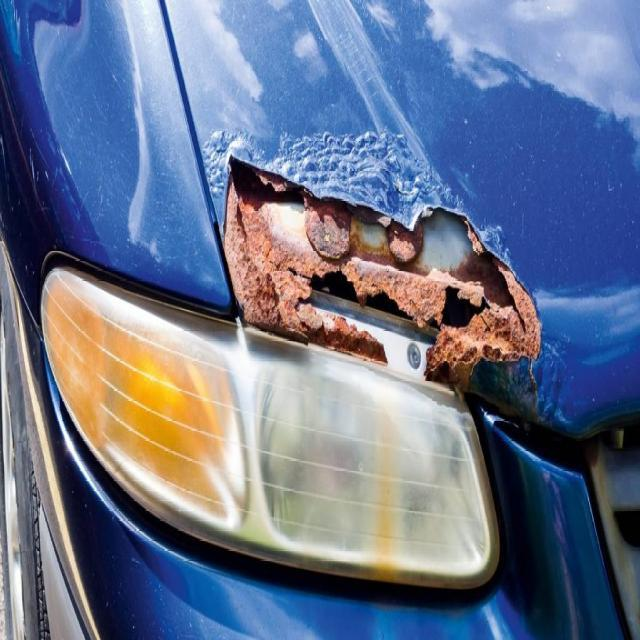corrosion: (425, 267, 542, 387), (224, 186, 312, 333), (345, 259, 446, 328), (320, 209, 415, 248), (316, 315, 387, 364)
